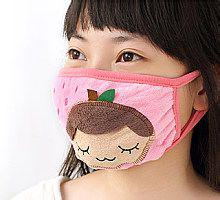OK: (56, 33, 199, 170)
